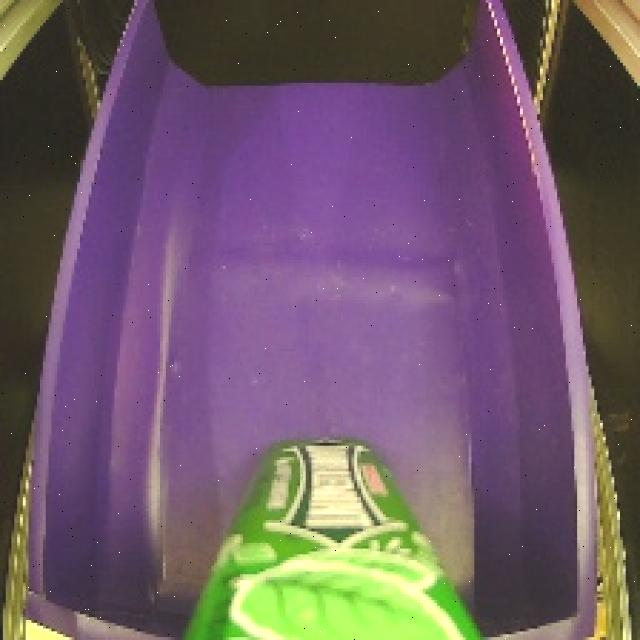metal: (154, 416, 503, 640)
